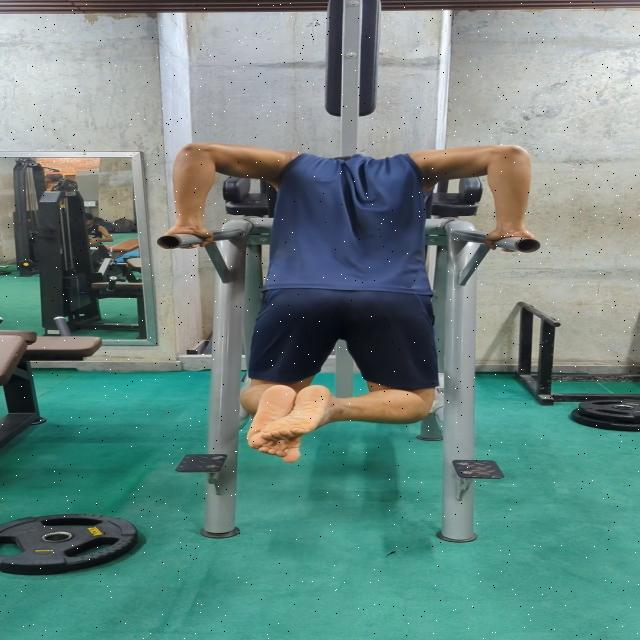Normal_Dips: (148, 130, 548, 470)
